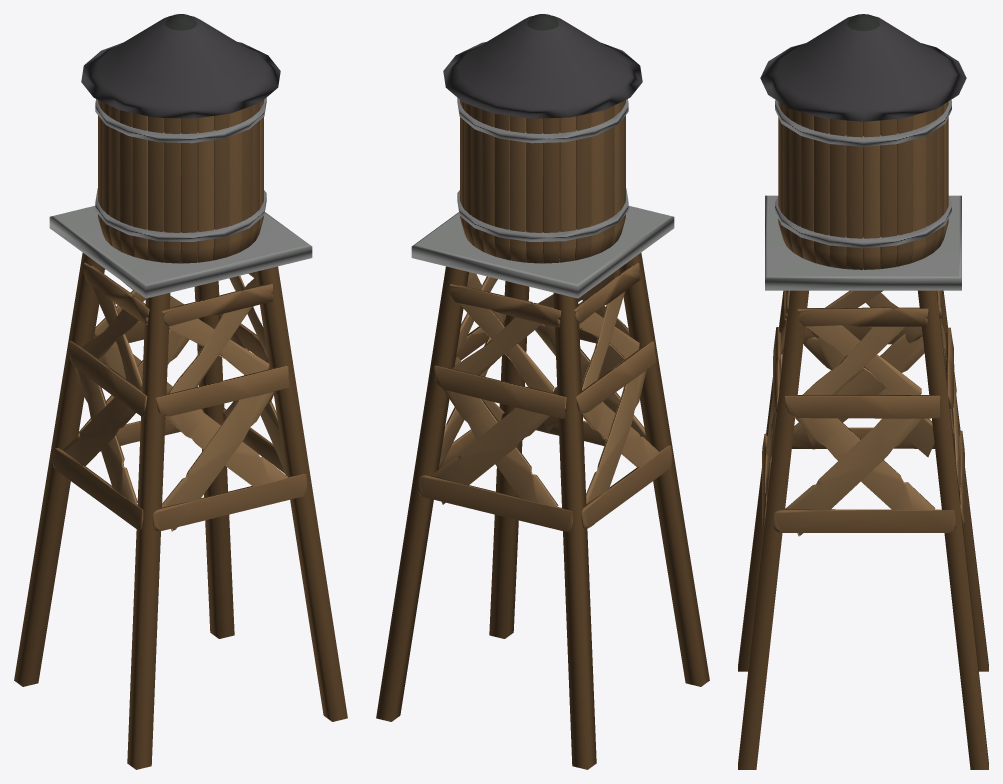
Rendered from SM_Prop_WaterBarrel_01B.obj.
The picture shows the model from 3 angles, left to right: view 1: azimuth 30°, elevation 25°; view 2: azimuth 150°, elevation 25°; view 3: azimuth 270°, elevation 25°; orthographic projection. The views are drawn at different scales.
Visible parts, largest first — view 1: SM_Prop_WaterBarrel_01B_Mat_SwatchOverlay_Farm_01_WoodRotated_In; view 2: SM_Prop_WaterBarrel_01B_Mat_SwatchOverlay_Farm_01_WoodRotated_In; view 3: SM_Prop_WaterBarrel_01B_Mat_SwatchOverlay_Farm_01_WoodRotated_In.
Part boxes in pixels (x1,y1,x2,y2): SM_Prop_WaterBarrel_01B_Mat_SwatchOverlay_Farm_01_WoodRotated_In: [14, 14, 347, 769]; SM_Prop_WaterBarrel_01B_Mat_SwatchOverlay_Farm_01_WoodRotated_In: [376, 14, 709, 769]; SM_Prop_WaterBarrel_01B_Mat_SwatchOverlay_Farm_01_WoodRotated_In: [738, 14, 988, 769].
Bounding box in the file's own units: 2.05 × 6.32 × 2.05.
Materials: 1 (1 with a texture image).
